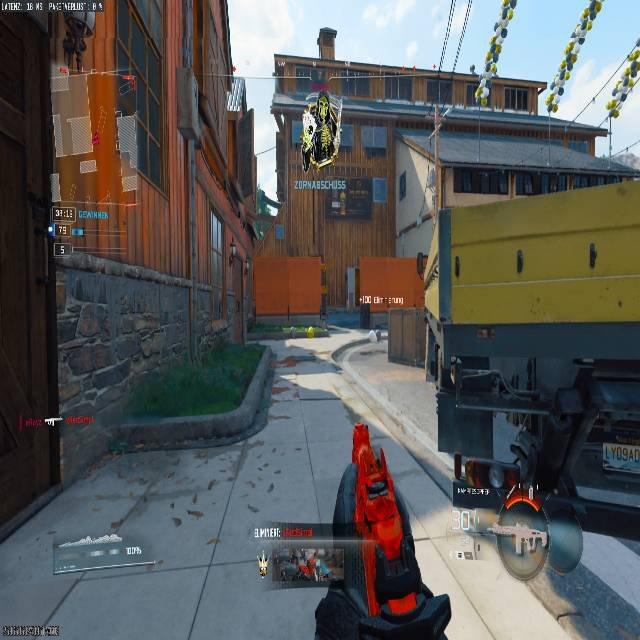player: (300, 93, 339, 171)
